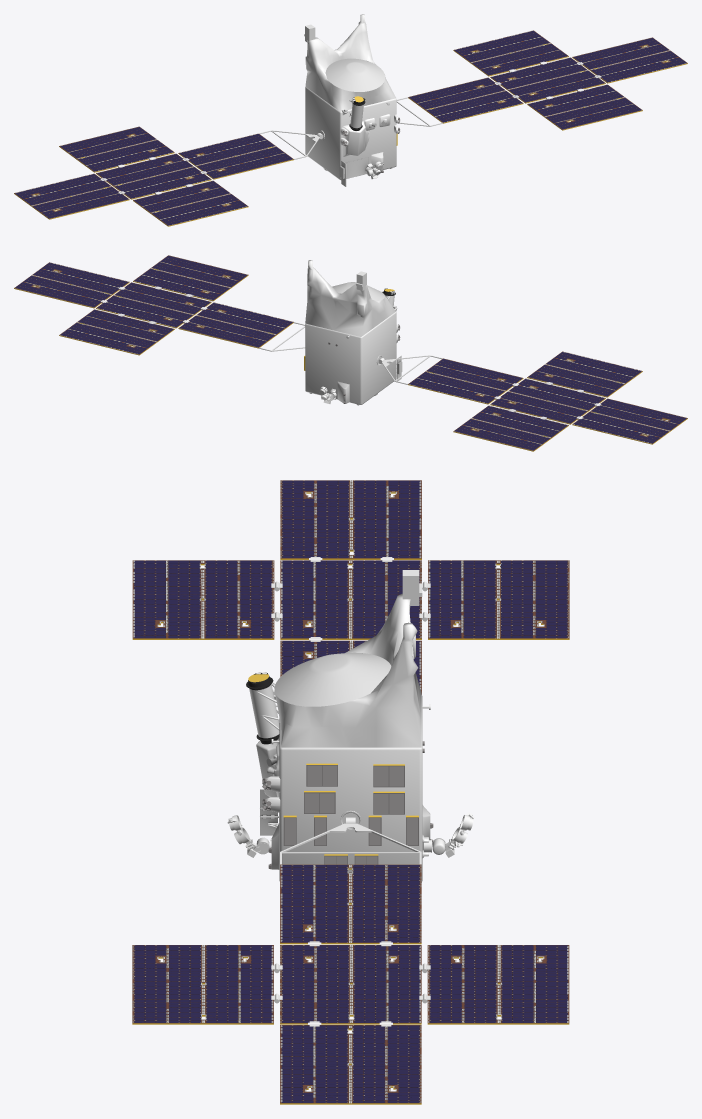
Rendered from psyche.glb.
3 renders of one model, top to bottom at view 1: azimuth 30°, elevation 25°; view 2: azimuth 150°, elevation 25°; view 3: azimuth 270°, elevation 25°, orthographic. The views are drawn at different scales.
Visible parts, largest first — view 1: Array LP Right, Array LP Left, Bus, psyche_ext_config__04-27-2021.003, reflector; view 2: Array LP Left, Array LP Right, Bus, psyche_ext_config__04-27-2021.003; view 3: Array LP Right, Array LP Left, psyche_ext_config__04-27-2021.003, Bus, louvers, dongs, Cylinder, bracketRight.
Part boxes in pixels (left/top/right/bottom): Array LP Right: left=408, top=30, right=687, bottom=130; Array LP Left: left=14, top=126, right=293, bottom=226; Bus: left=305, top=87, right=399, bottom=179; psyche_ext_config__04-27-2021.003: left=305, top=14, right=395, bottom=111; reflector: left=340, top=157, right=368, bottom=186; Array LP Left: left=408, top=351, right=687, bottom=451; Array LP Right: left=14, top=255, right=293, bottom=355; Bus: left=305, top=312, right=398, bottom=405; psyche_ext_config__04-27-2021.003: left=305, top=260, right=395, bottom=336; Array LP Right: left=132, top=864, right=569, bottom=1104; Array LP Left: left=132, top=480, right=569, bottom=694; psyche_ext_config__04-27-2021.003: left=274, top=593, right=421, bottom=747; Bus: left=256, top=695, right=430, bottom=882; louvers: left=283, top=763, right=418, bottom=864; dongs: left=227, top=812, right=473, bottom=857; Cylinder: left=249, top=684, right=279, bottom=738; bracketRight: left=280, top=823, right=421, bottom=864.
Size of the model in its own units: 24.74 by 4.94 by 7.34.
12 materials, 2 textured.
